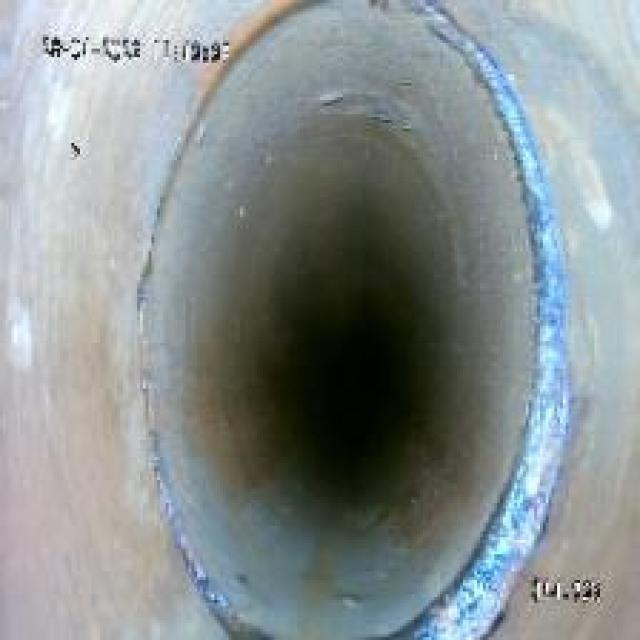joint: (123, 0, 583, 629)
